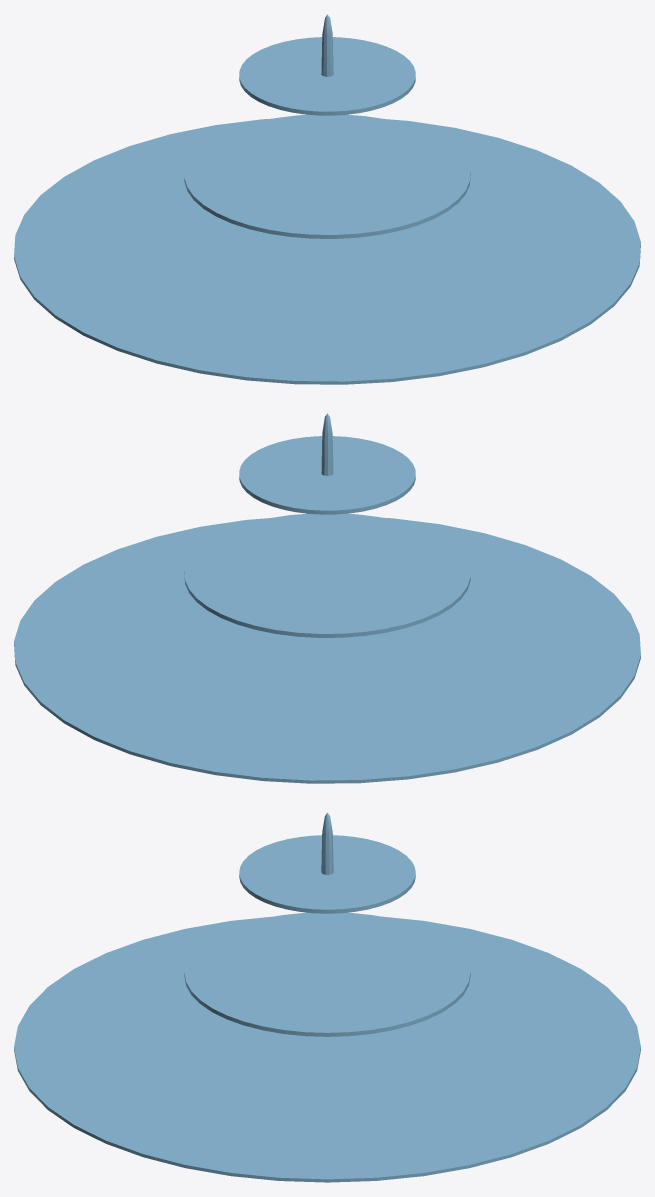
Rendered from Fountain_Water.fbx.
3 views of the same model, one above another, from view 1: azimuth 30°, elevation 25°; view 2: azimuth 150°, elevation 25°; view 3: azimuth 270°, elevation 25° (orthographic).
Visible parts, largest first — view 1: Fountain_Water; view 2: Fountain_Water; view 3: Fountain_Water.
Part boxes in pixels (bbox=[...]): Fountain_Water: bbox=[14, 14, 640, 384]; Fountain_Water: bbox=[14, 413, 640, 783]; Fountain_Water: bbox=[14, 812, 640, 1182].
Size of the model in its own units: 7.1 by 2.97 by 7.1.
